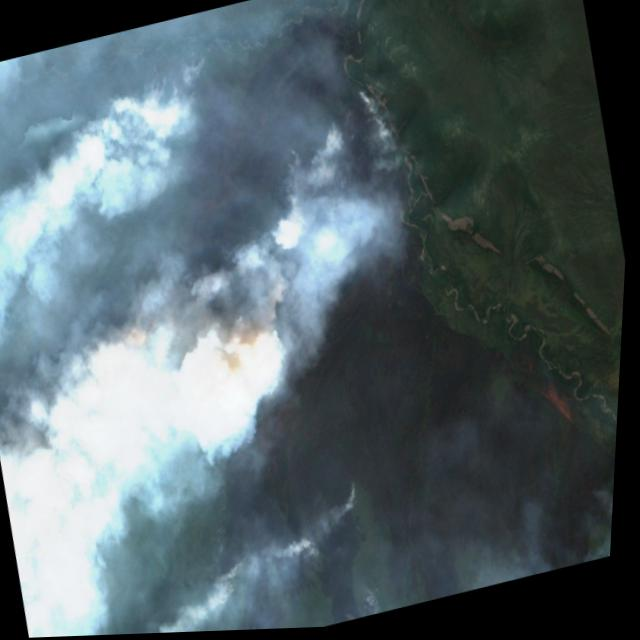fire: (36, 0, 441, 423)
